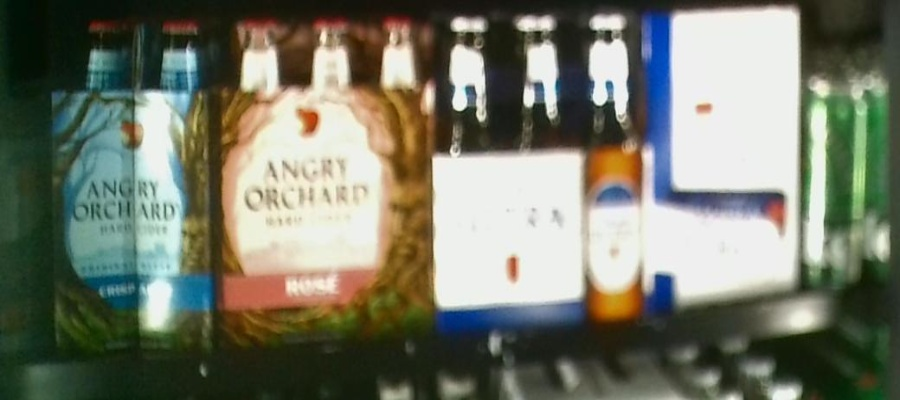bottle: (215, 13, 433, 346), (436, 13, 644, 334), (53, 15, 216, 357), (646, 10, 805, 309)
